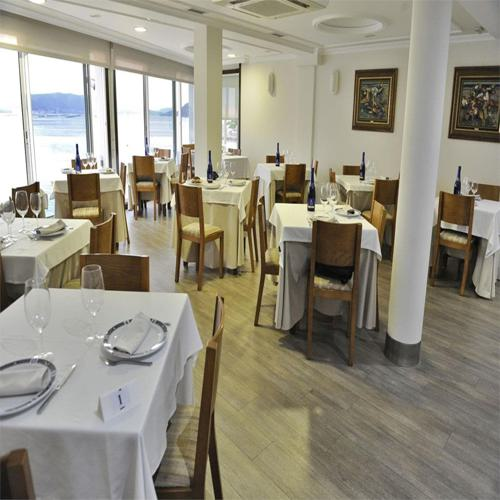copa: (22, 275, 51, 358), (79, 266, 107, 343), (15, 189, 32, 239), (28, 189, 45, 235), (2, 196, 17, 242), (319, 185, 330, 215), (329, 190, 339, 217)
